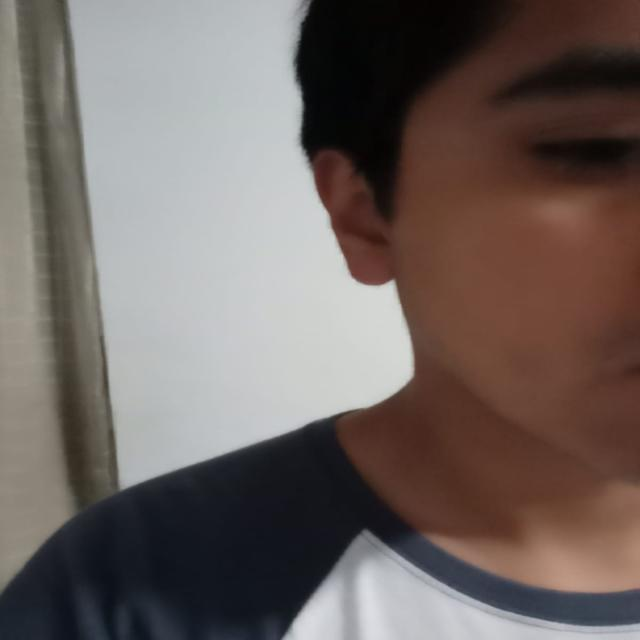ear: (312, 149, 397, 285)
